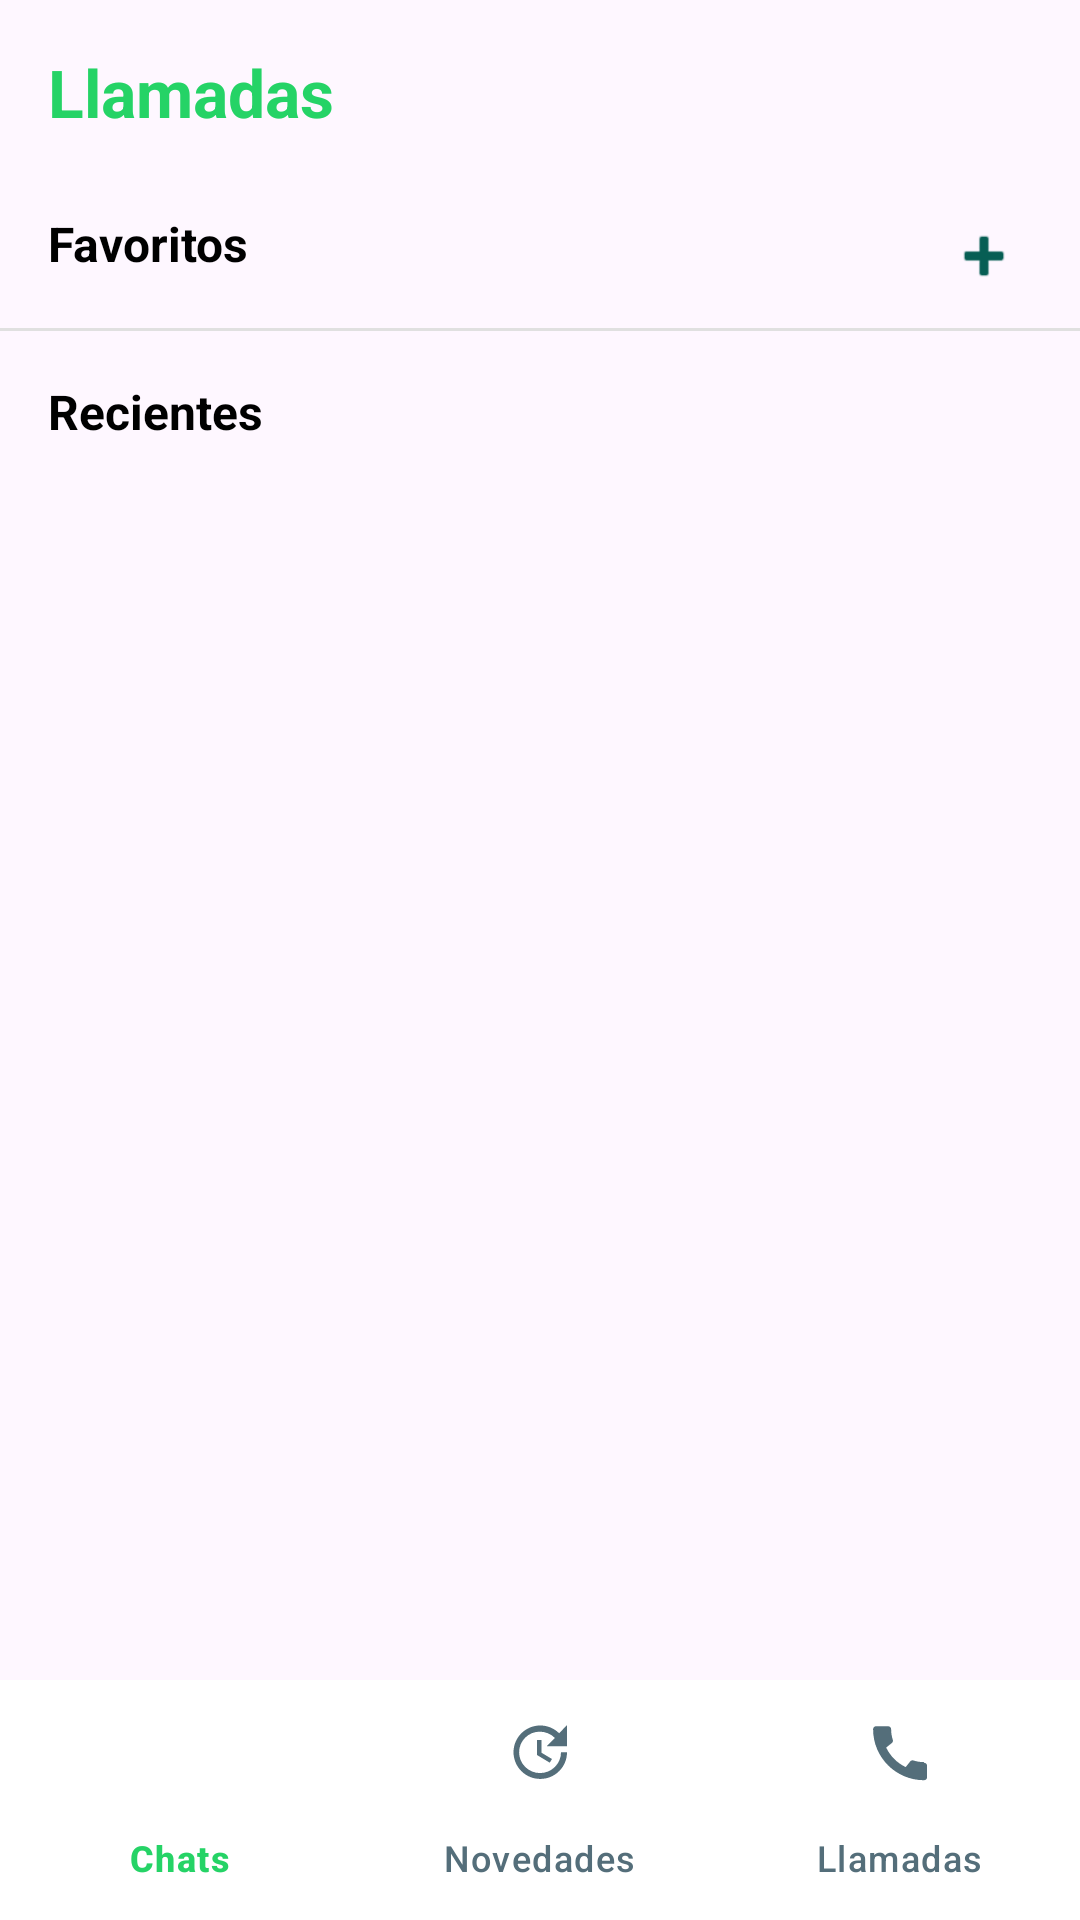

Named icons in this screenshot (1080*1920) and their centers, point (x, y):
Añadir favorito: point (984, 256)
